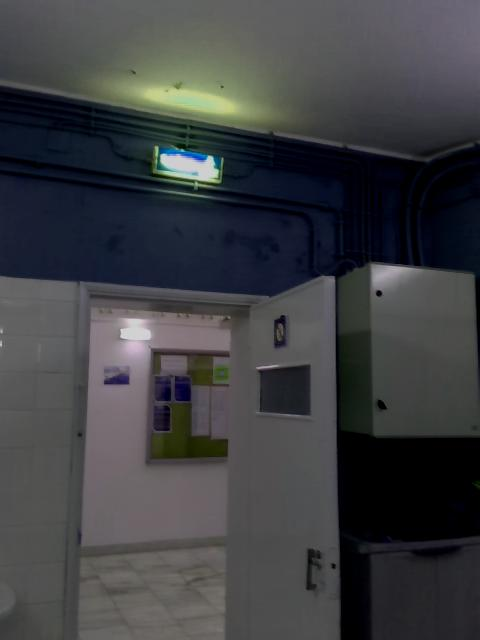open_door: (67, 277, 270, 639)
